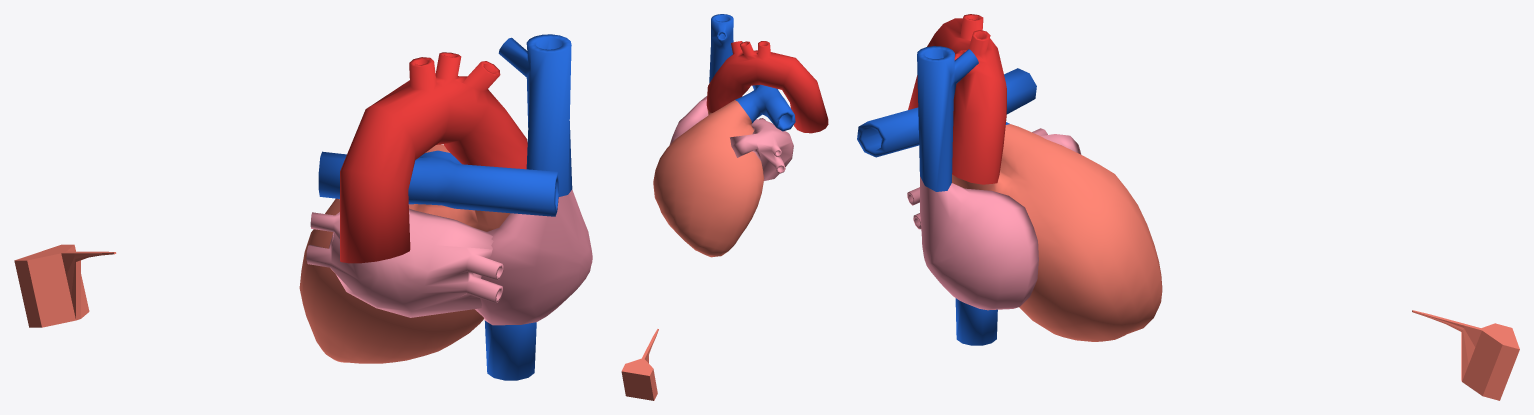
File: heart.gltf
3 renders of one model, left to right at view 1: azimuth 30°, elevation 25°; view 2: azimuth 150°, elevation 25°; view 3: azimuth 270°, elevation 25°, orthographic. The views are drawn at different scales.
Visible parts, largest first — view 1: аорта, праве_передсердя, шлуночки, ліве_передсердя, вени_порожнисті, вена_легенева, Розріз; view 2: шлуночки, аорта, праве_передсердя, вена_легенева, Розріз, вени_порожнисті, ліве_передсердя; view 3: шлуночки, ліве_передсердя, аорта, вени_порожнисті, Розріз, вена_легенева, праве_передсердя.
Boxes of the visible parts, x1,y1,x2,y2 form: аорта: (340,52,527,263); праве_передсердя: (306,199,503,317); шлуночки: (299,144,509,363); ліве_передсердя: (475,190,592,325); вени_порожнисті: (485,34,572,380); вена_легенева: (318,150,558,216); Розріз: (14,244,116,327); шлуночки: (653,100,764,257); аорта: (706,41,828,133); праве_передсердя: (730,118,793,180); вена_легенева: (735,84,795,131); Розріз: (621,329,658,400); вени_порожнисті: (709,14,733,82); ліве_передсердя: (669,96,708,145); шлуночки: (952,124,1162,341); ліве_передсердя: (920,176,1038,310); аорта: (908,14,1006,184); вени_порожнисті: (917,46,997,345); Розріз: (1412,310,1519,400); вена_легенева: (857,68,1036,157); праве_передсердя: (907,128,1081,229).
Size of the model in its own units: 4.71 by 8 by 11.88.
